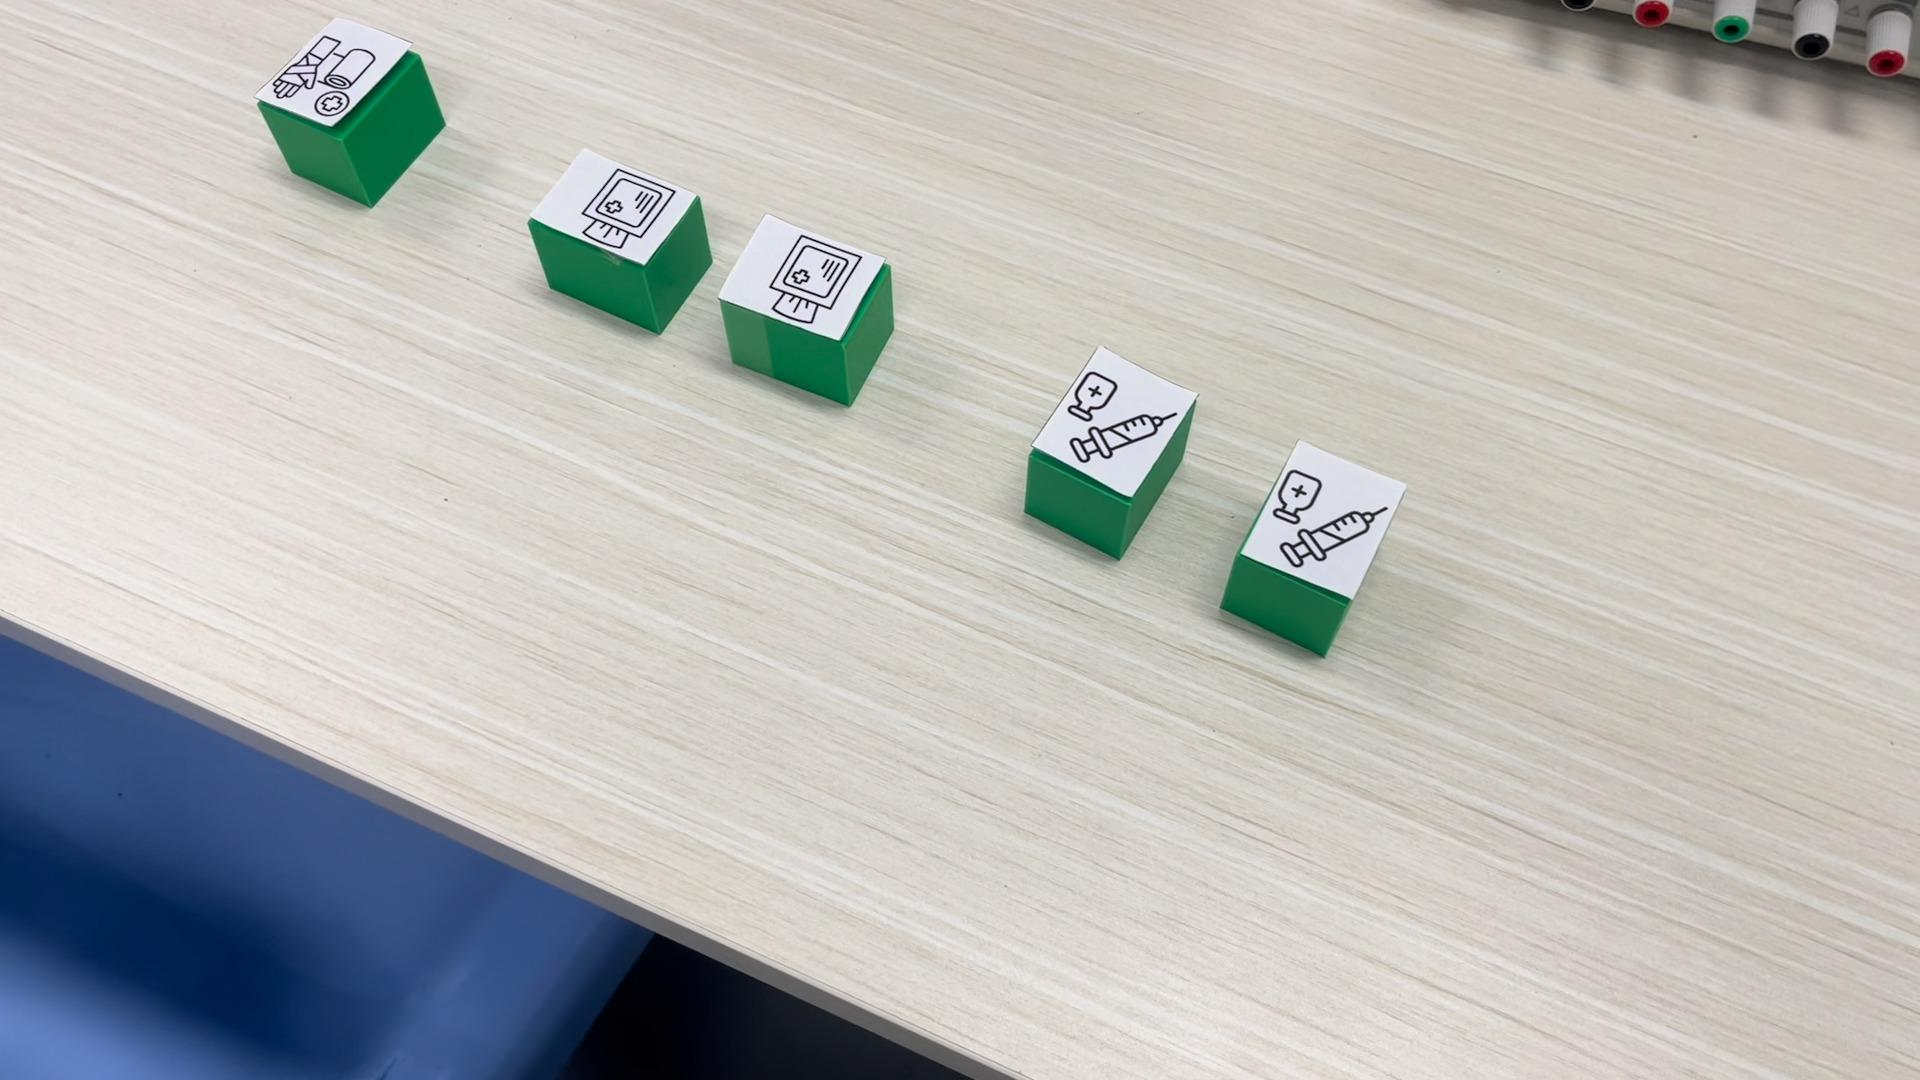Bandages: (251, 15, 444, 207)
Gauze: (527, 145, 709, 334), (717, 212, 895, 405)
antiseptic cream: (1218, 438, 1407, 655), (1023, 345, 1199, 558)
